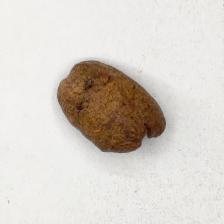NG: (119, 117, 169, 156), (71, 76, 95, 113)
